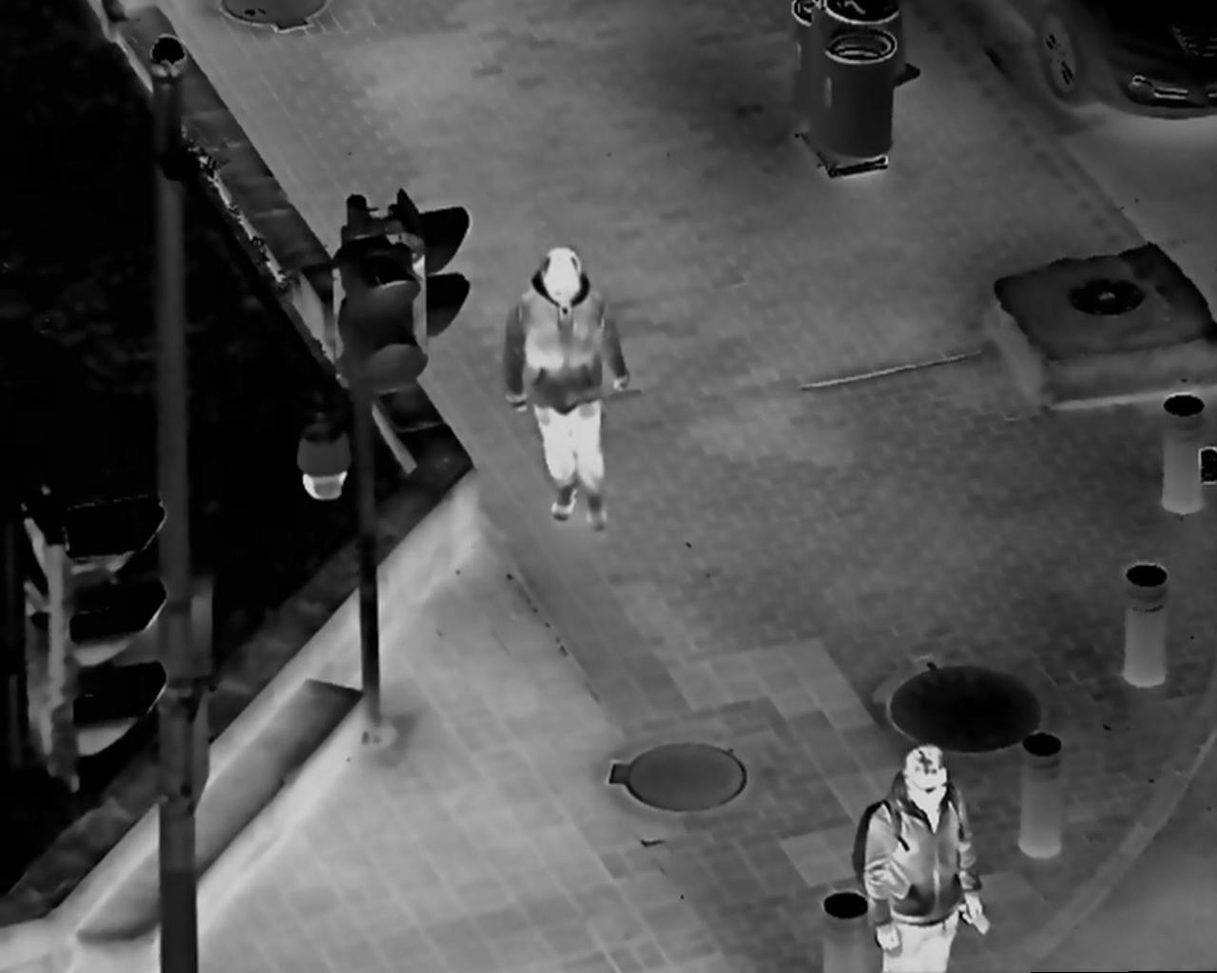person: (498, 238, 639, 535), (835, 740, 995, 973)
